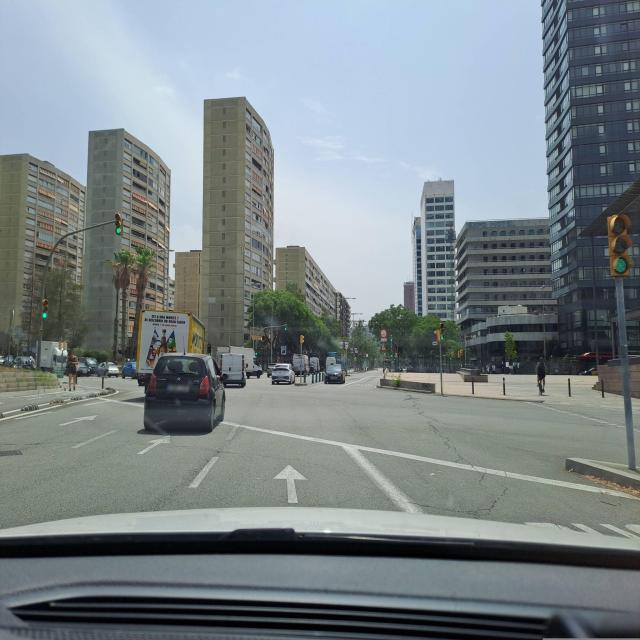forb_stopping: (432, 333, 437, 342)
